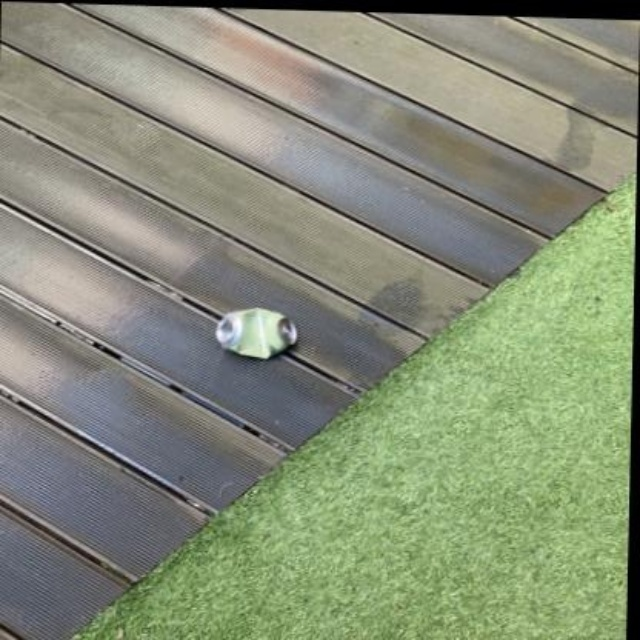trash: (215, 308, 295, 357)
